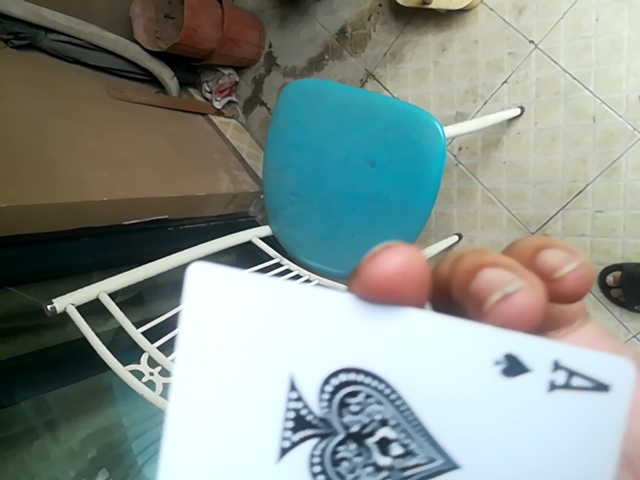ht a: (127, 257, 628, 474)
